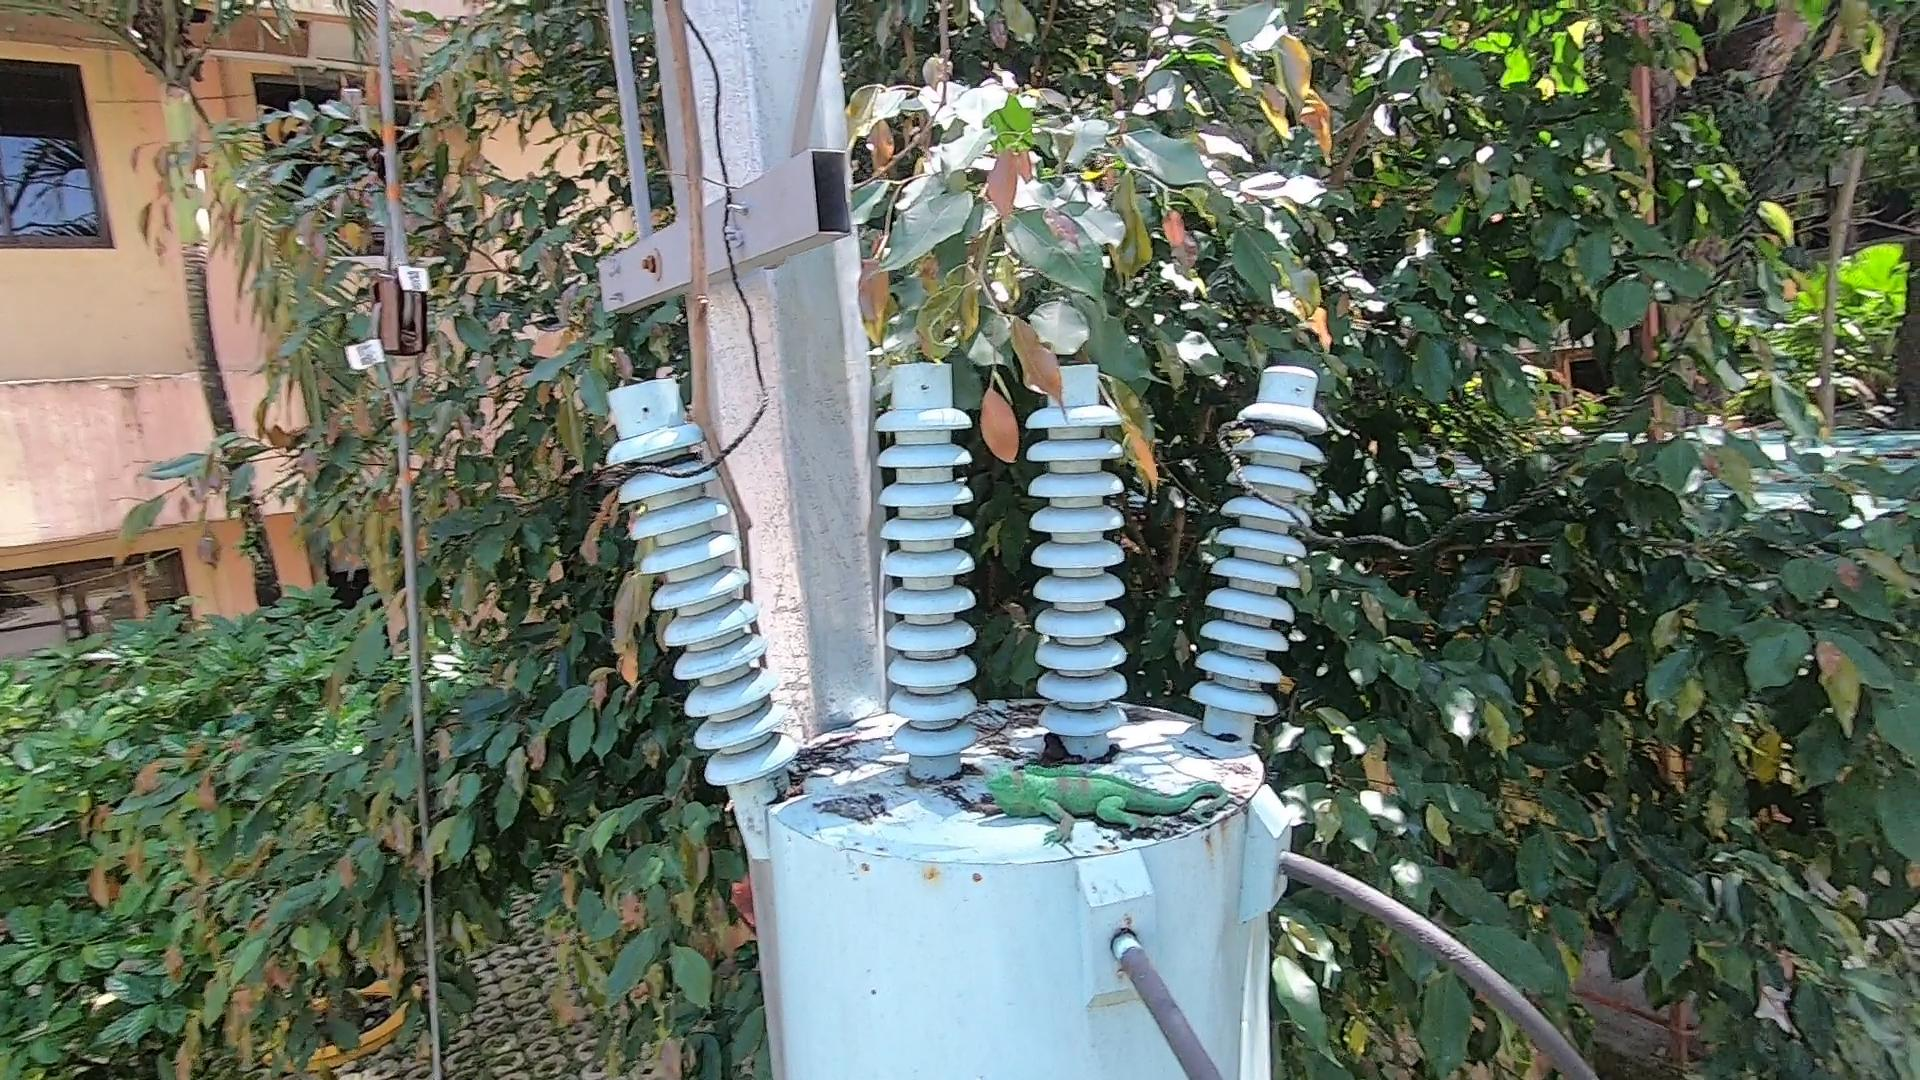branch with leaves: (944, 251, 1217, 491)
leaf: (1026, 732, 1087, 781), (760, 769, 822, 808)
tree branch: (644, 5, 815, 688)
